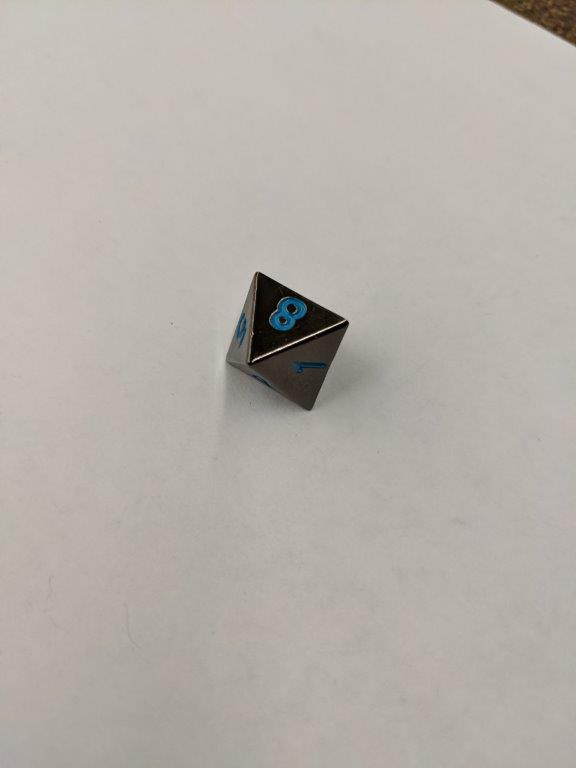d8-8: (225, 272, 350, 412)
